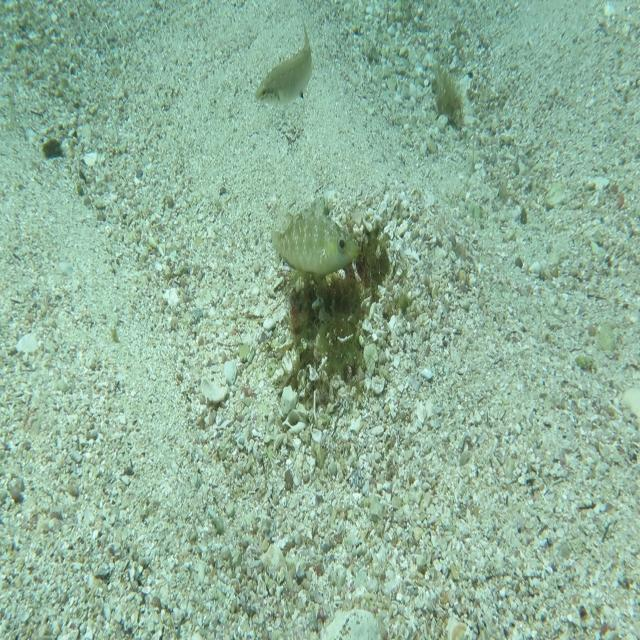FAN: (270, 195, 360, 276)
core_nest: (338, 255, 378, 293)
female: (254, 14, 314, 108)
nest: (271, 210, 401, 423)
vegetation: (430, 61, 464, 131), (42, 137, 64, 161)
